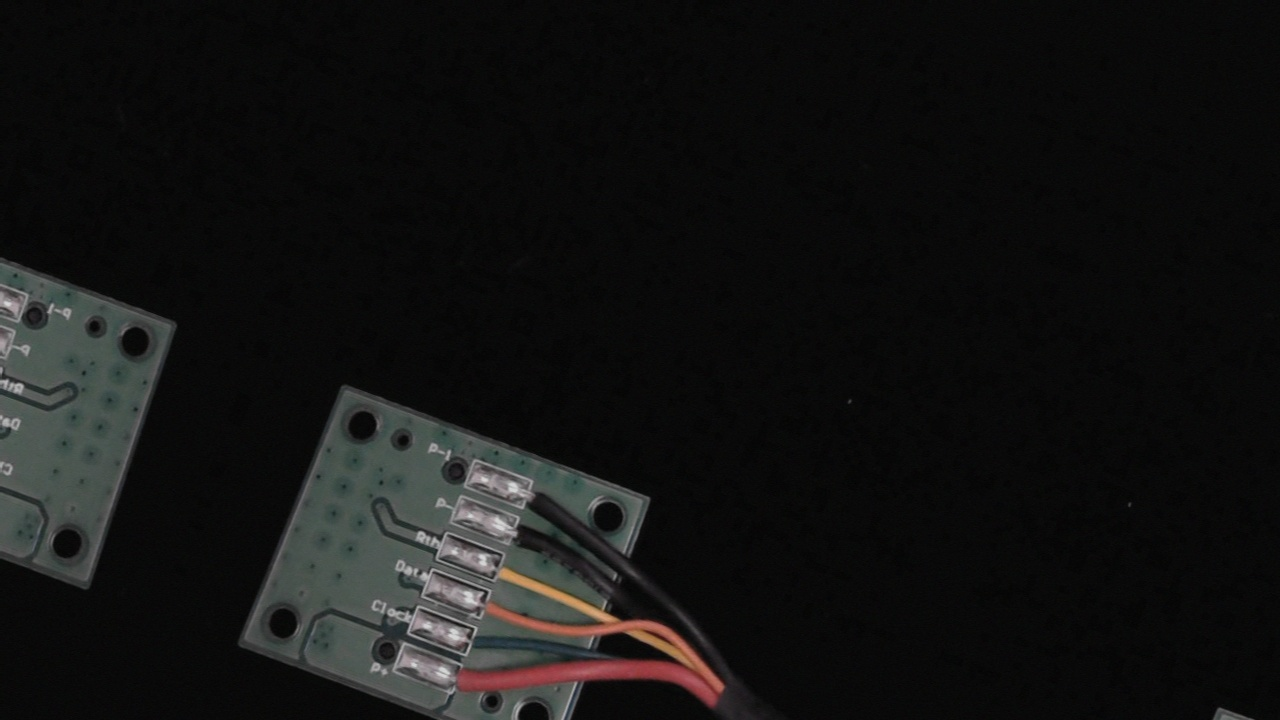Black: (492, 512, 566, 564)
Black1: (509, 471, 583, 526)
Green: (449, 619, 518, 672)
Orange: (462, 584, 531, 635)
Red: (433, 657, 511, 713)
Yellow: (479, 549, 549, 597)
